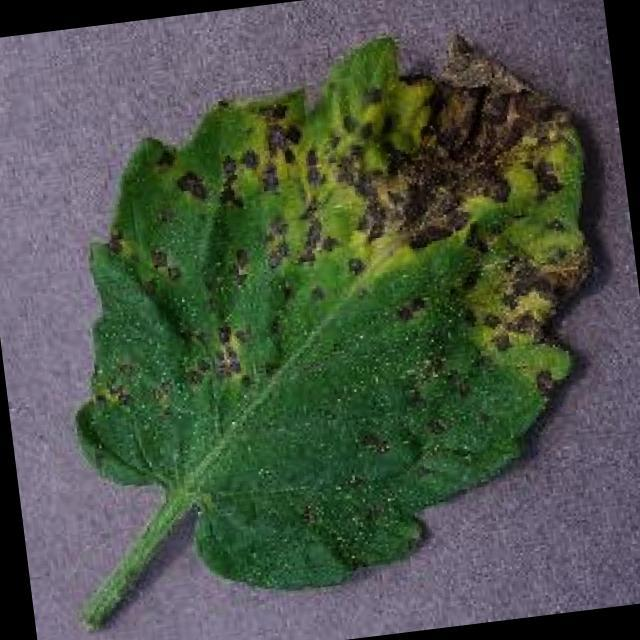Tomato Septoria spot leaf: (32, 11, 630, 614)
